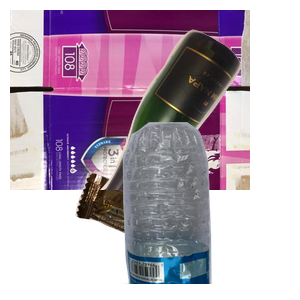cardboard: (10, 10, 250, 190)
glass: (87, 27, 300, 207)
plastic: (111, 120, 300, 300)
trash: (73, 171, 242, 300)
